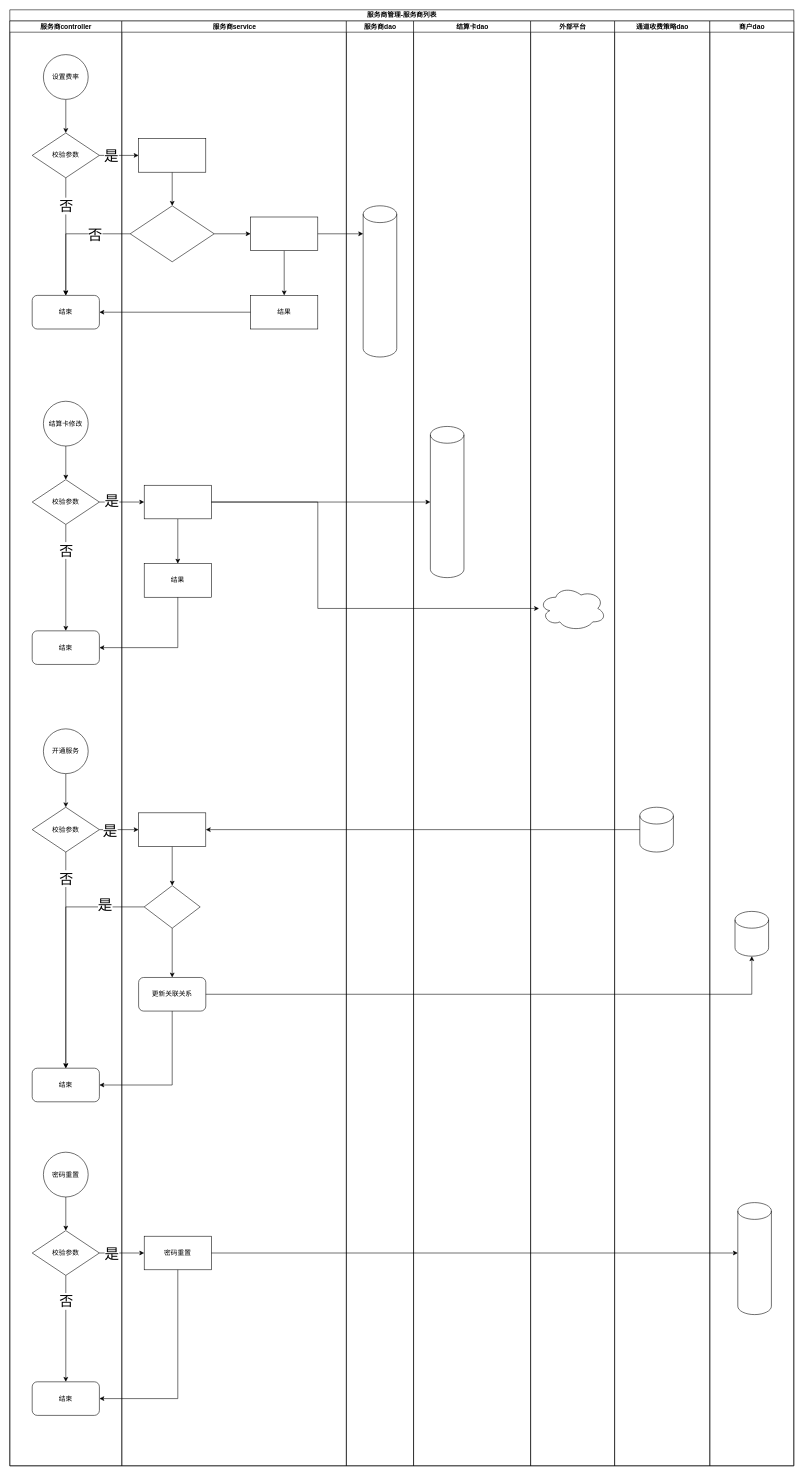
Image size: 804x1476. Some labels were removed from this diagram. The centre of each missing label's shape, as x and y in pixels:
"商户信息" belongs at point 754,1258.
"商户通道表" belongs at point 751,933.
"更新入库" belongs at point 284,233.
"服务商 通道信息" belongs at point 380,281.
"服务费校验" belongs at point 172,906.
"第三方平台" belongs at point 572,608.
"结算卡" belongs at point 447,502.
"结算卡更新" belongs at point 177,502.
"获取收费策略" belongs at point 172,829.
"费率列表" belongs at point 172,155.
"费率校验" belongs at point 172,233.
"通道收费策略" belongs at point 656,829.
